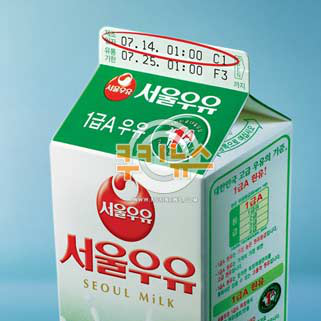milk: (49, 26, 293, 321)
